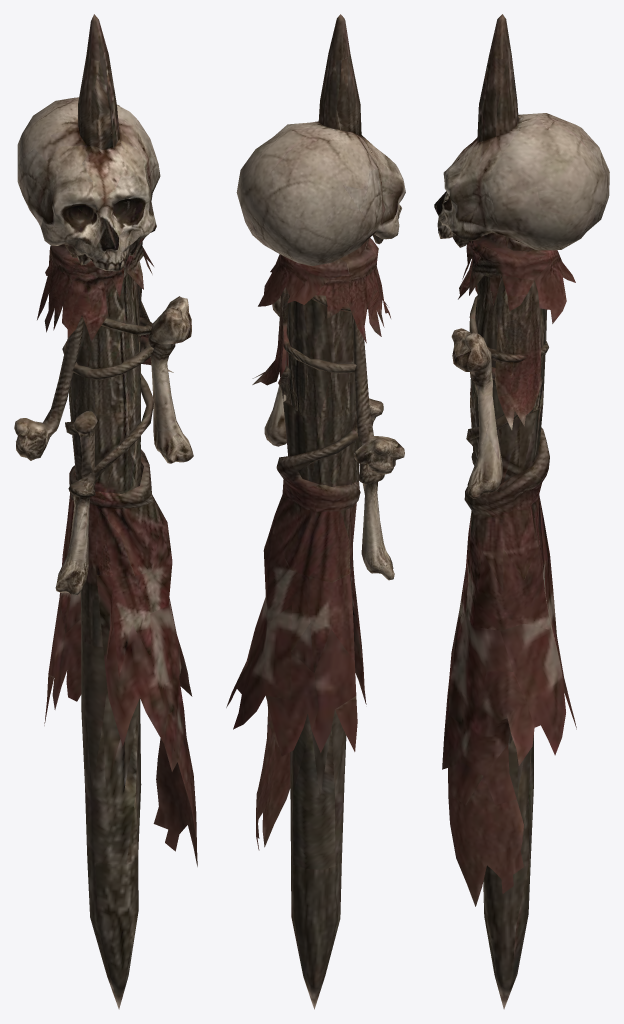
Rendered from h_post_skull.glb.
3 renders of one model, left to right at view 1: azimuth 30°, elevation 25°; view 2: azimuth 150°, elevation 25°; view 3: azimuth 270°, elevation 25°, orthographic.
Parts seen in each view (by area): view 1: h_post_skull; view 2: h_post_skull; view 3: h_post_skull.
Part boxes in pixels (bbox=[...]): h_post_skull: bbox=[14, 14, 197, 1009]; h_post_skull: bbox=[226, 14, 405, 1009]; h_post_skull: bbox=[434, 14, 609, 1009].
Bounding box in the file's own units: 0.6047 × 3.3 × 0.5342.
1 material, 1 textured.
